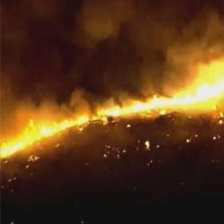fire: (138, 63, 224, 110), (56, 101, 136, 129), (1, 123, 53, 156)
